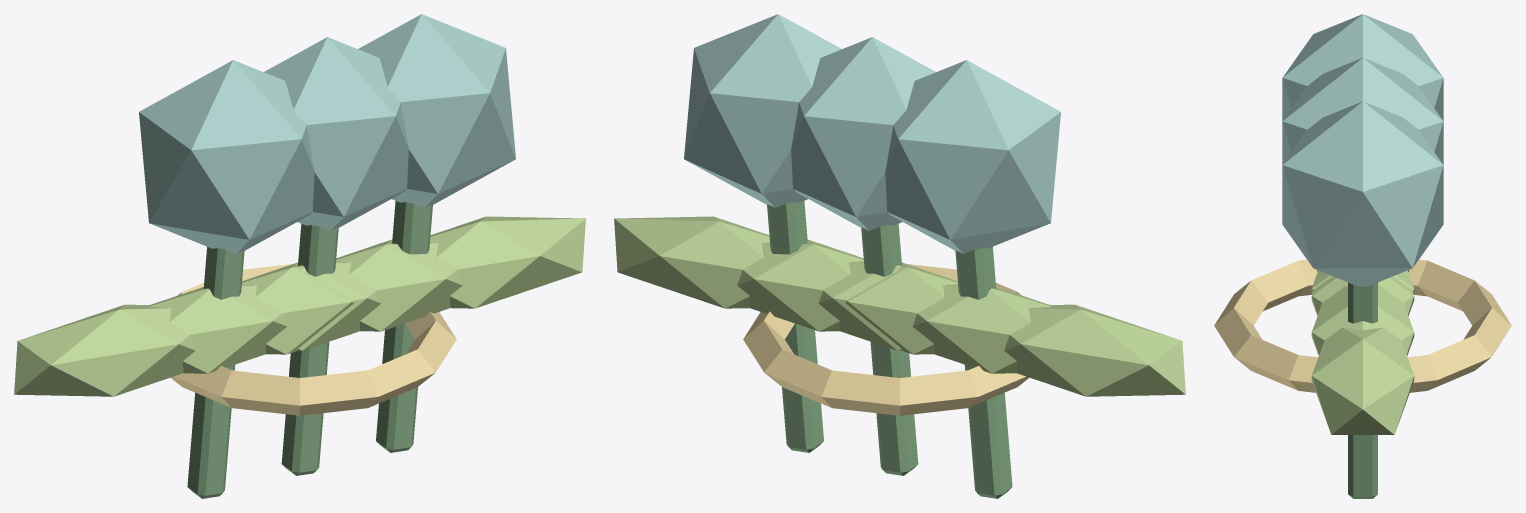
Rendered from cargo_herbs.fbx.
3 views of the same model, side by side, from view 1: azimuth 30°, elevation 25°; view 2: azimuth 150°, elevation 25°; view 3: azimuth 270°, elevation 25° (orthographic). The views are drawn at different scales.
Parts seen in each view (by area): view 1: cargo_herbs_mesh; view 2: cargo_herbs_mesh; view 3: cargo_herbs_mesh.
Boxes of the visible parts, box(x1,y1,x2,y2) form: cargo_herbs_mesh: box(14, 14, 585, 498); cargo_herbs_mesh: box(614, 14, 1185, 498); cargo_herbs_mesh: box(1214, 14, 1511, 498).
Size of the model in its own units: 0.7283 by 0.521 by 0.346.
